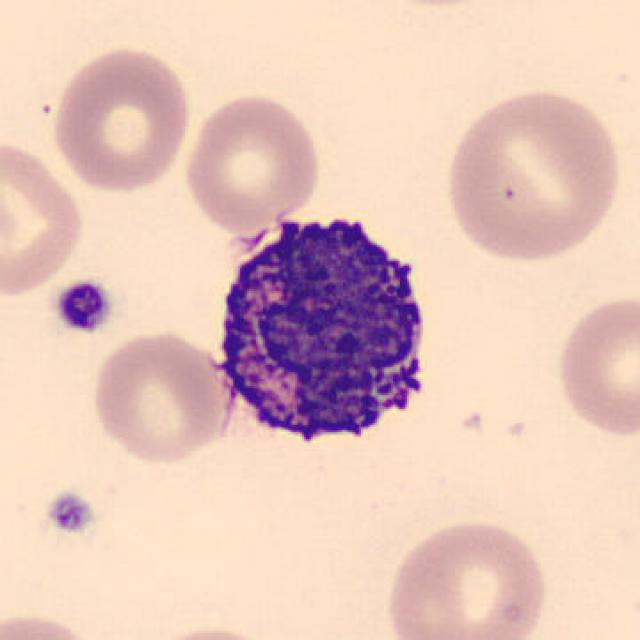Basophil: (201, 197, 448, 469)
Platelets: (51, 277, 116, 337), (42, 486, 98, 540)
RBC: (439, 83, 628, 266), (46, 42, 194, 196), (380, 515, 553, 640), (180, 88, 324, 235), (87, 326, 235, 467), (0, 136, 87, 300), (551, 291, 638, 441), (0, 608, 105, 640), (137, 622, 286, 640)
